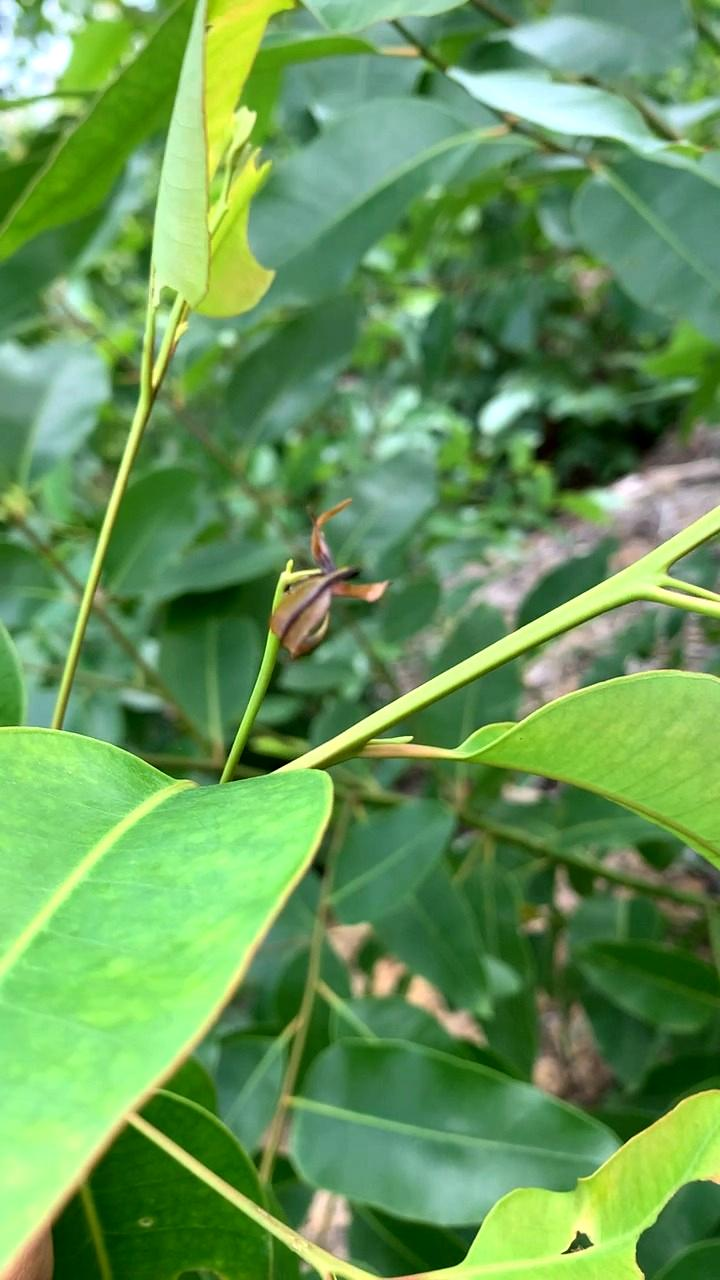Helopeltis-Withered Sprout: (251, 494, 398, 673)
